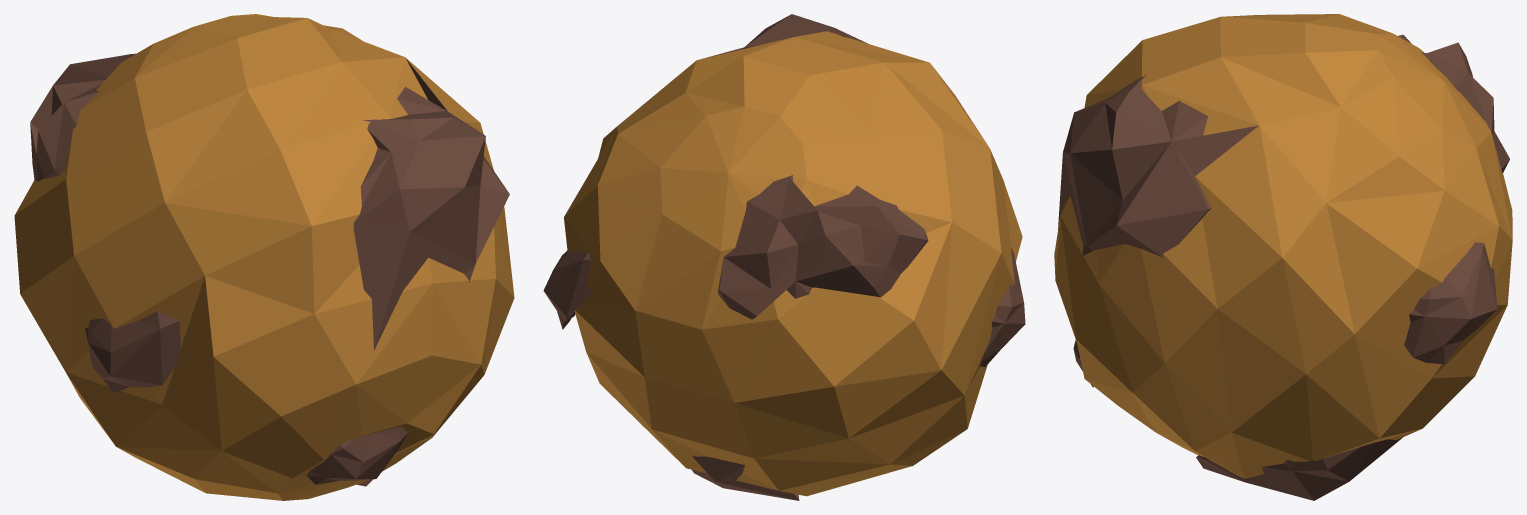
File: mercury.glb
3 renders of one model, left to right at view 1: azimuth 30°, elevation 25°; view 2: azimuth 150°, elevation 25°; view 3: azimuth 270°, elevation 25°, orthographic. The views are drawn at different scales.
Visible parts, largest first — view 1: node_MeshObject-814447424-PolyPaper20; view 2: node_MeshObject-814447424-PolyPaper20; view 3: node_MeshObject-814447424-PolyPaper20.
Boxes of the visible parts, x1=… form: node_MeshObject-814447424-PolyPaper20: x1=14, y1=14, x2=514, y2=500; node_MeshObject-814447424-PolyPaper20: x1=543, y1=14, x2=1025, y2=500; node_MeshObject-814447424-PolyPaper20: x1=1054, y1=14, x2=1512, y2=500.
Bounding box in the file's own units: 1.18 × 1.25 × 1.18.
